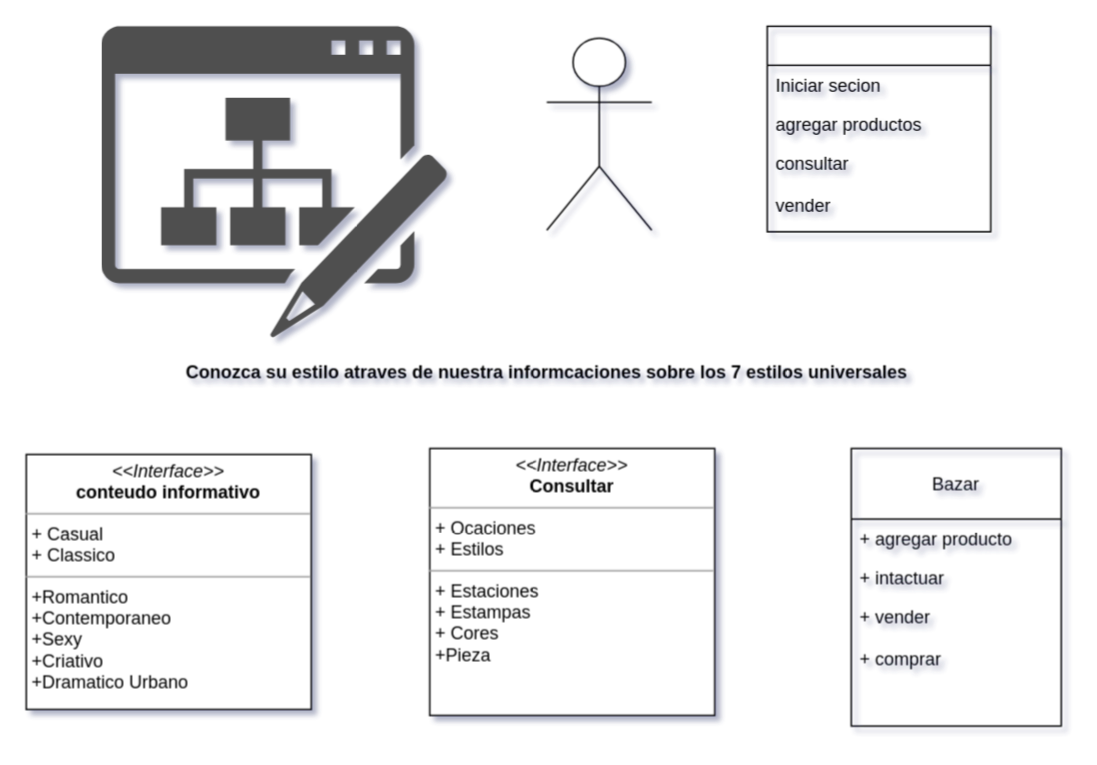
Some shapes in this 1097 by 765 pixel diagram are drawn without their labels. The box of each missing label's shape, as (x1, y1, x2, y2) in pixels:
Actor: (545, 37, 652, 230)
usuario: (766, 25, 991, 232)
